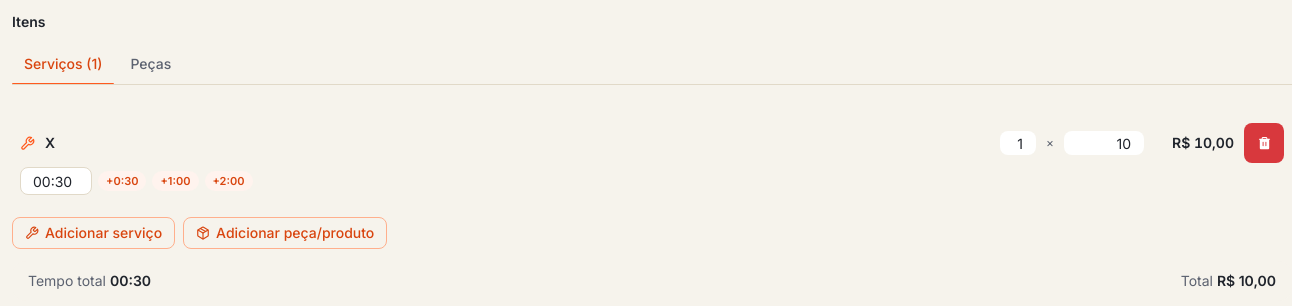
Test case: ItemsEditor › renders the tempo vendido controls, and the total, only when mostrarTempoVendido is set
This screenshot has width=1292, height=306.
expect the field showing "00:30" is shown: met, box left=20, top=167, right=92, bottom=195
Click the button "+1:00" at (175, 181), box left=152, top=171, right=198, bottom=191
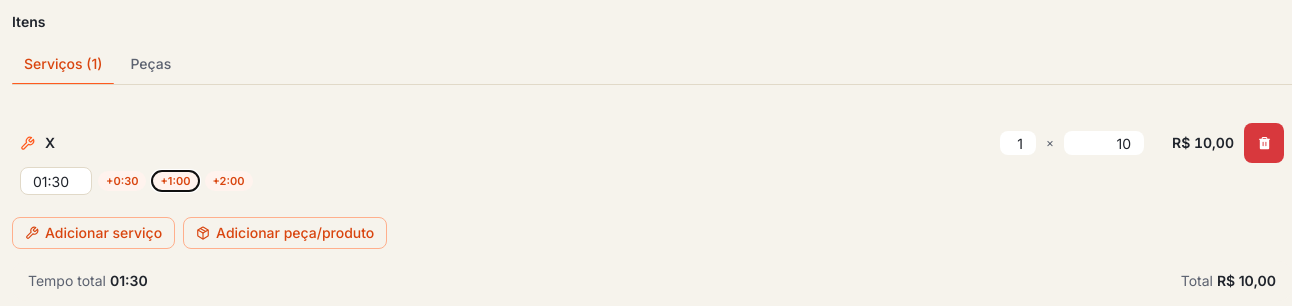
expect the field showing "01:30" is shown: met, box left=20, top=167, right=92, bottom=195
